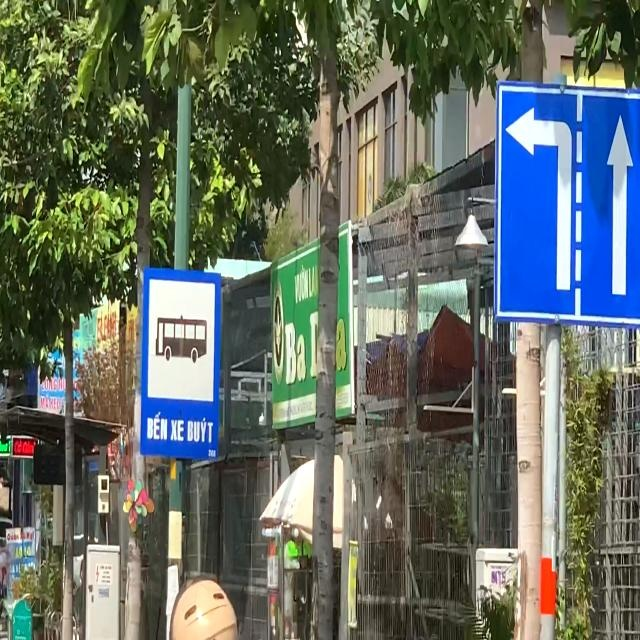bien_chi_dan: (139, 264, 222, 462)
